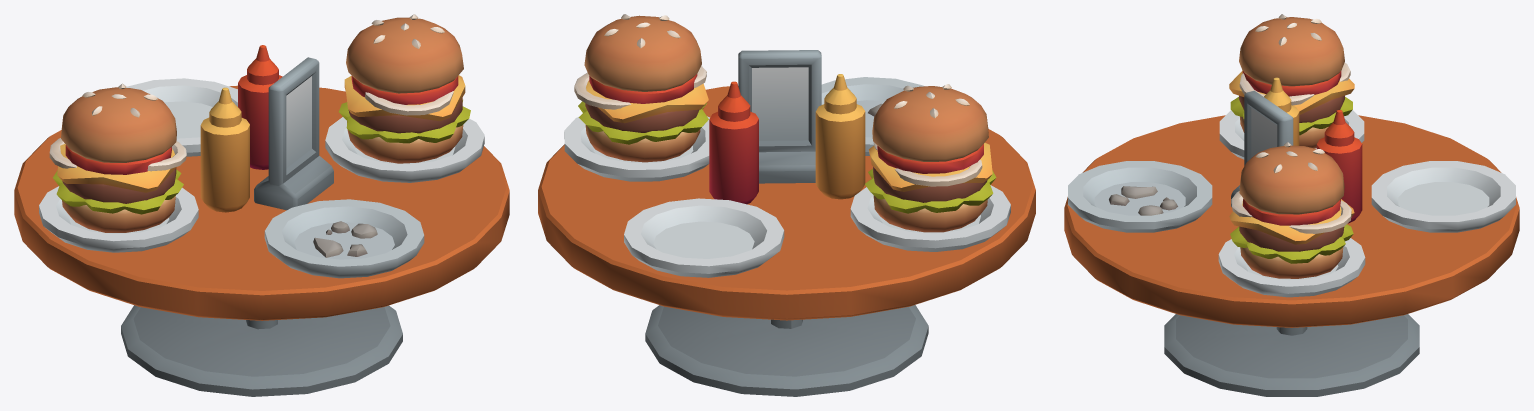
File: round-table-decorated.glb
3 views of the same model, side by side, from view 1: azimuth 30°, elevation 25°; view 2: azimuth 150°, elevation 25°; view 3: azimuth 270°, elevation 25° (orthographic). The views are drawn at different scales.
Parts seen in each view (by area): view 1: table_round_A_decorated; view 2: table_round_A_decorated; view 3: table_round_A_decorated.
Part boxes in pixels (x1=…): table_round_A_decorated: x1=14, y1=14, x2=509, y2=396; table_round_A_decorated: x1=538, y1=14, x2=1035, y2=396; table_round_A_decorated: x1=1064, y1=14, x2=1519, y2=396.
Bounding box in the file's own units: 3 × 1.86 × 3.
1 material, 1 textured.
